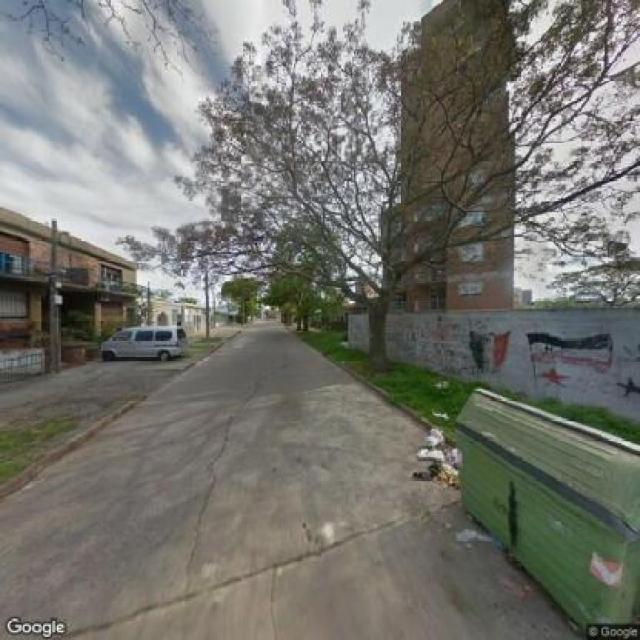garbage: (406, 416, 462, 499)
